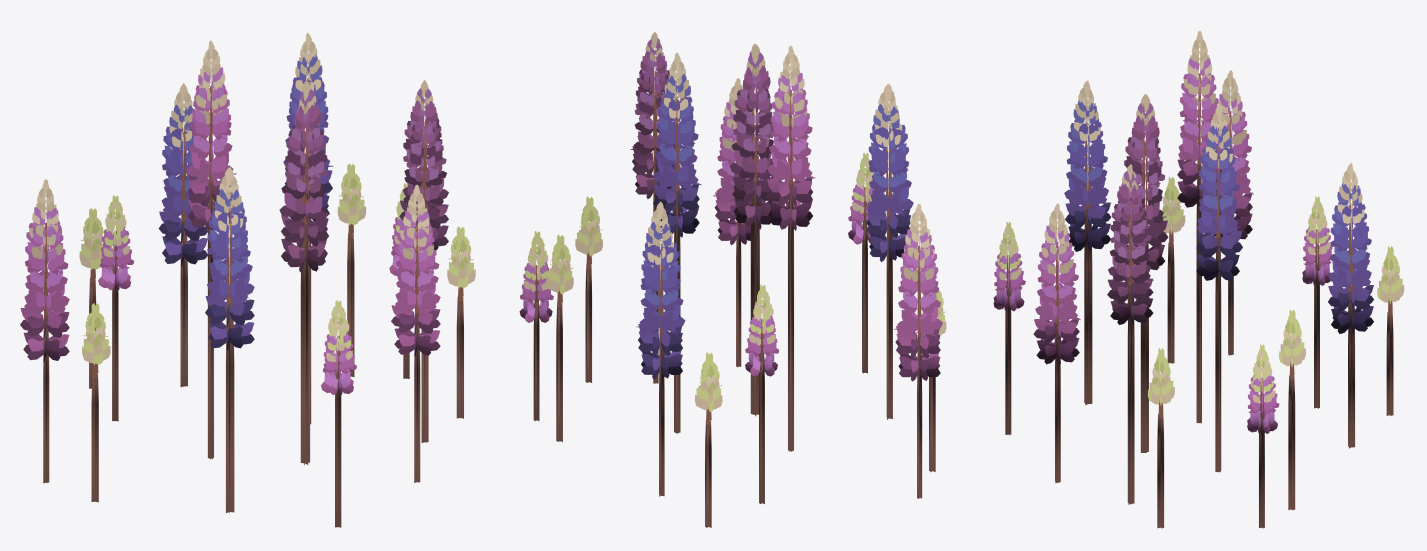
File: alp_Env_Bush_Flower_01.glb
3 renders of one model, left to right at view 1: azimuth 30°, elevation 25°; view 2: azimuth 150°, elevation 25°; view 3: azimuth 270°, elevation 25°, orthographic. The views are drawn at different scales.
Parts seen in each view (by area): view 1: SM_Env_Bush_Flower_01_LOD0; view 2: SM_Env_Bush_Flower_01_LOD0; view 3: SM_Env_Bush_Flower_01_LOD0.
Part boxes in pixels (x1,y1,x2,y2): SM_Env_Bush_Flower_01_LOD0: (20,33,475,527); SM_Env_Bush_Flower_01_LOD0: (519,32,946,527); SM_Env_Bush_Flower_01_LOD0: (993,31,1404,528).
Bounding box in the file's own units: 1.84 × 1.75 × 1.71.
1 material, 1 textured.
